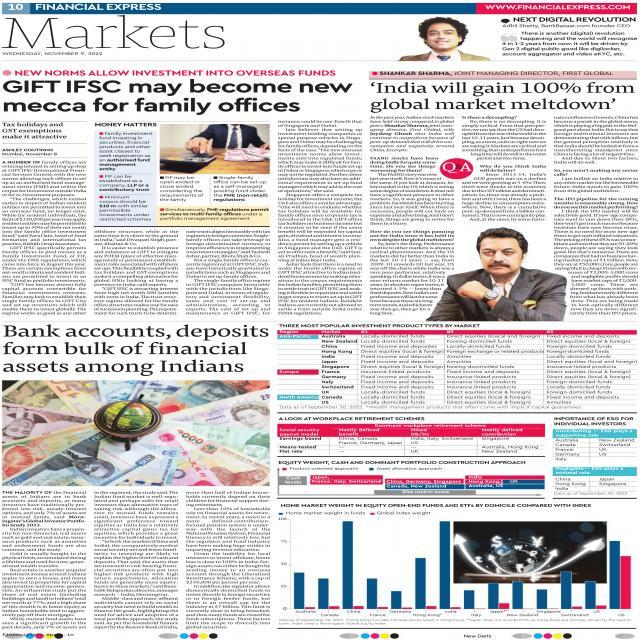Article: (0, 68, 365, 317), (1, 322, 272, 630), (368, 70, 640, 322)
Body: (277, 120, 364, 316), (0, 160, 89, 316), (554, 114, 640, 270), (92, 490, 180, 630), (185, 490, 272, 630), (1, 490, 87, 630), (370, 116, 454, 226), (461, 116, 548, 222), (368, 228, 456, 316), (92, 229, 180, 315), (185, 229, 272, 315), (568, 270, 640, 316), (96, 131, 154, 172), (159, 207, 271, 221), (212, 176, 268, 203), (99, 194, 152, 222), (159, 175, 205, 202), (98, 175, 152, 192)
Date: (0, 50, 104, 56)
Heading: (3, 323, 270, 377), (0, 79, 354, 116), (368, 81, 636, 113)
Highlights: (498, 16, 638, 57), (279, 502, 594, 508), (277, 460, 527, 466), (1, 122, 68, 140), (278, 323, 482, 328), (552, 416, 634, 427), (278, 416, 427, 421)
Image: (278, 511, 634, 616), (277, 330, 638, 410), (2, 381, 270, 486), (456, 226, 552, 321), (278, 423, 545, 456), (276, 466, 546, 496), (159, 124, 270, 174), (398, 15, 491, 61), (552, 429, 636, 461), (552, 468, 636, 496)
Name: (1, 15, 231, 49), (34, 3, 164, 11)
